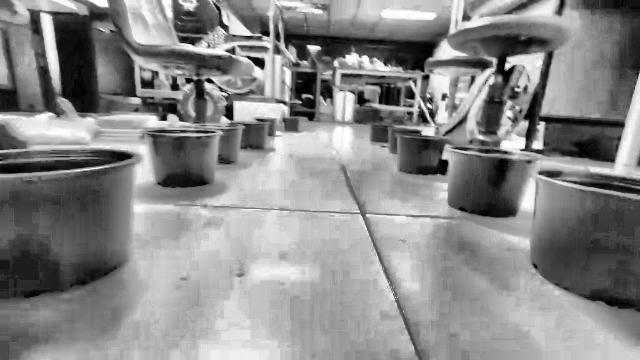pot: (396, 132, 639, 309), (0, 149, 139, 299), (146, 128, 220, 188), (193, 123, 244, 164), (236, 121, 268, 149)
